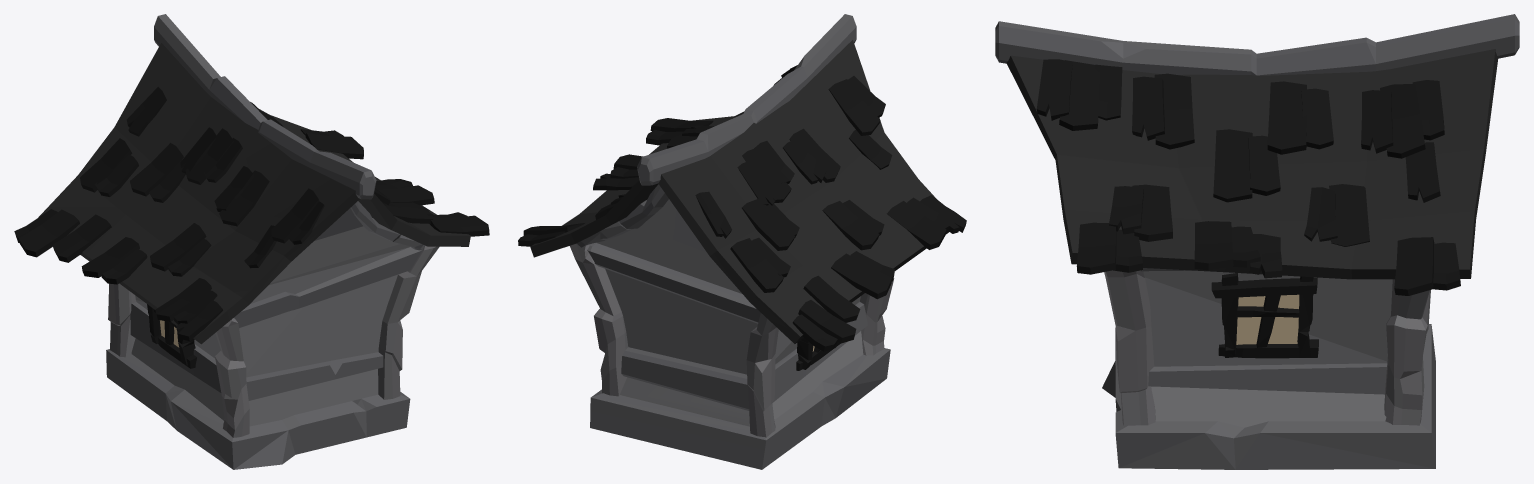
Rendered from WF_LP_HT_Build_HouseRoom.003.2.fbx.
The picture shows the model from 3 angles, left to right: view 1: azimuth 30°, elevation 25°; view 2: azimuth 150°, elevation 25°; view 3: azimuth 270°, elevation 25°; orthographic projection. The views are drawn at different scales.
Visible parts, largest first — view 1: WF_LP_HT_Build_HouseRoom.003.2; view 2: WF_LP_HT_Build_HouseRoom.003.2; view 3: WF_LP_HT_Build_HouseRoom.003.2.
Part boxes in pixels (x1,y1,x2,y2): WF_LP_HT_Build_HouseRoom.003.2: (14,14,489,469); WF_LP_HT_Build_HouseRoom.003.2: (518,14,966,469); WF_LP_HT_Build_HouseRoom.003.2: (995,14,1519,469).
Size of the model in its own units: 5.37 by 4.9 by 5.83.
